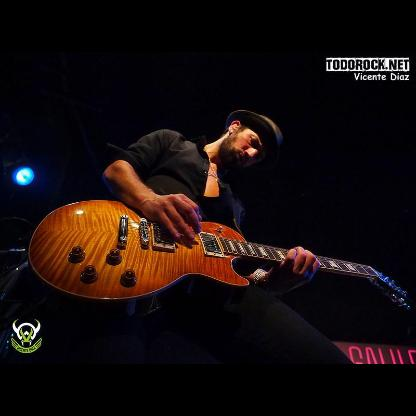guitar: (28, 198, 412, 326)
